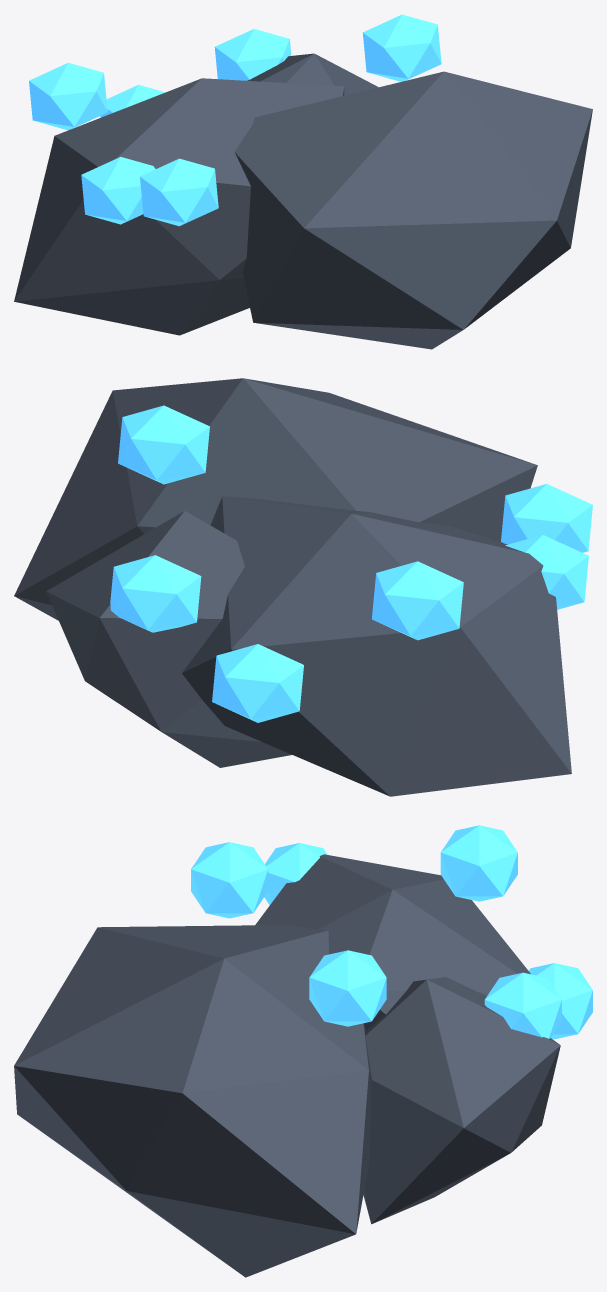
The model's file is res_cobalt.glb.
The picture shows the model from 3 angles, top to bottom: view 1: azimuth 30°, elevation 25°; view 2: azimuth 150°, elevation 25°; view 3: azimuth 270°, elevation 25°; orthographic projection. The views are drawn at different scales.
Parts seen in each view (by area): view 1: Rock0, Rock2, Vein0, Vein2, Vein3, Vein4, Vein1, Rock1, Vein5; view 2: Rock2, Rock0, Rock1, Vein5, Vein2, Vein3, Vein1, Vein0, Vein4; view 3: Rock0, Rock1, Rock2, Vein2, Vein3, Vein0, Vein1, Vein5, Vein4.
Part boxes in pixels (<box>): Rock0: <box>234,71,592,349</box>; Rock2: <box>14,78,344,335</box>; Vein0: <box>140,158,218,226</box>; Vein2: <box>29,62,107,130</box>; Vein3: <box>362,14,441,81</box>; Vein4: <box>81,157,155,224</box>; Vein1: <box>214,29,291,80</box>; Rock1: <box>247,53,378,95</box>; Vein5: <box>100,84,165,117</box>; Rock2: <box>182,496,571,796</box>; Rock0: <box>14,378,537,620</box>; Rock1: <box>46,511,291,767</box>; Vein5: <box>212,644,303,722</box>; Vein2: <box>372,561,463,640</box>; Vein3: <box>118,405,209,484</box>; Vein1: <box>110,555,201,632</box>; Vein0: <box>501,484,592,552</box>; Vein4: <box>505,535,588,609</box>; Rock0: <box>14,925,371,1277</box>; Rock1: <box>363,977,560,1224</box>; Rock2: <box>255,854,530,1030</box>; Vein2: <box>440,825,517,901</box>; Vein3: <box>309,950,386,1026</box>; Vein0: <box>191,842,268,918</box>; Vein1: <box>484,972,561,1038</box>; Vein5: <box>529,963,592,1039</box>; Vein4: <box>264,843,327,904</box>.
Size of the model in its own units: 1.98 by 1.14 by 1.79.
